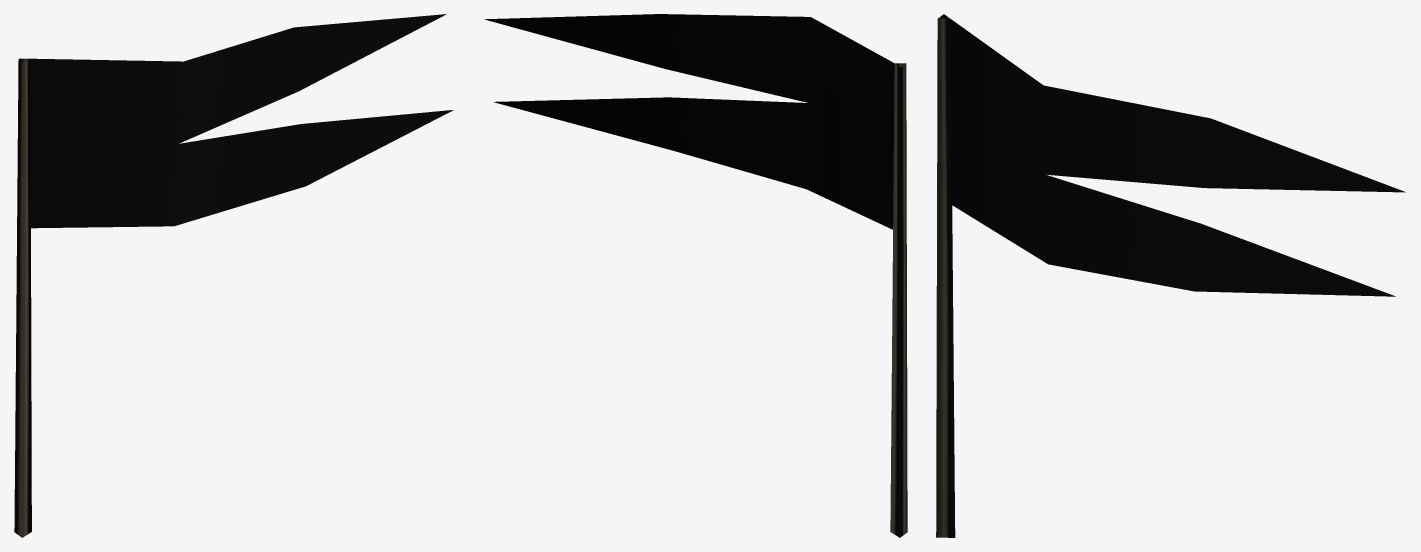
3 views of the same model, side by side, from view 1: azimuth 30°, elevation 25°; view 2: azimuth 150°, elevation 25°; view 3: azimuth 330°, elevation 25° (orthographic). The views are drawn at different scales.
Parts seen in each view (by area): view 1: T1L9M004_23; view 2: T1L9M004_23; view 3: T1L9M004_23.
Boxes of the visible parts, <box> form: T1L9M004_23: <box>14,14,453,537</box>; T1L9M004_23: <box>484,14,907,537</box>; T1L9M004_23: <box>936,14,1405,537</box>.
Size of the model in its own units: 1.73 by 1.83 by 0.2752.
